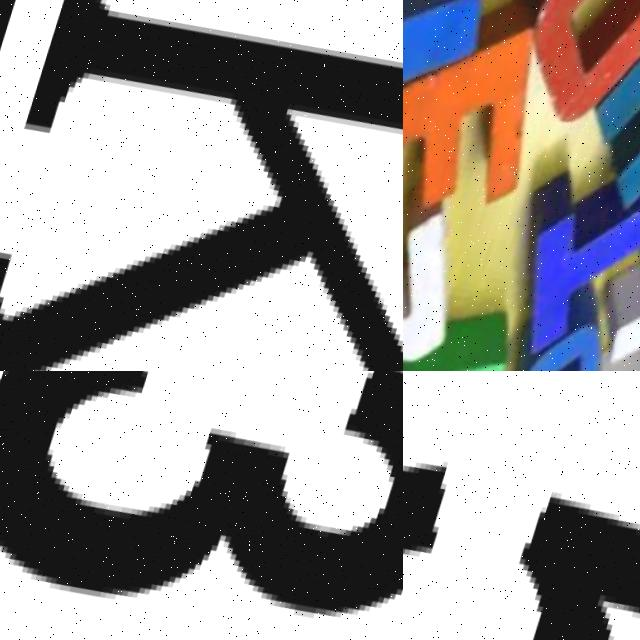3: (0, 371, 403, 640)
5: (403, 403, 640, 640)
E: (403, 0, 590, 314)
H: (569, 214, 640, 371)
J: (403, 0, 532, 163)
K: (0, 0, 403, 371), (562, 0, 640, 240)
U: (482, 0, 640, 168)
Z: (403, 126, 512, 371)
